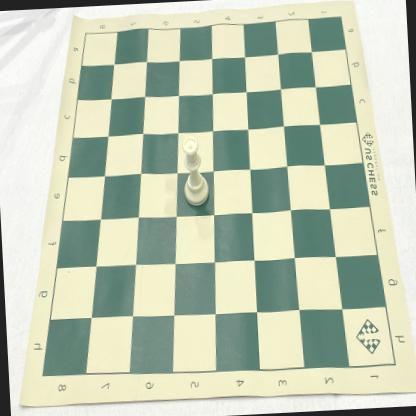white-queen: (180, 133, 210, 208)
